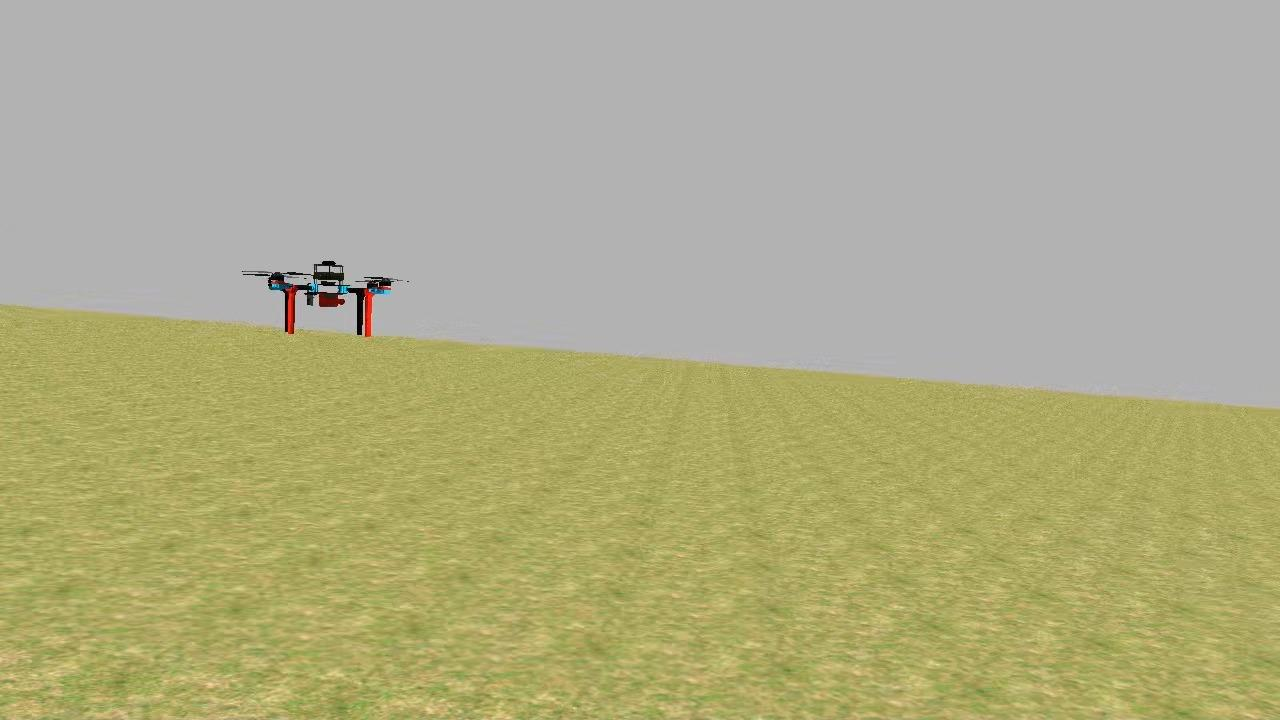UAV: (258, 254, 402, 344)
